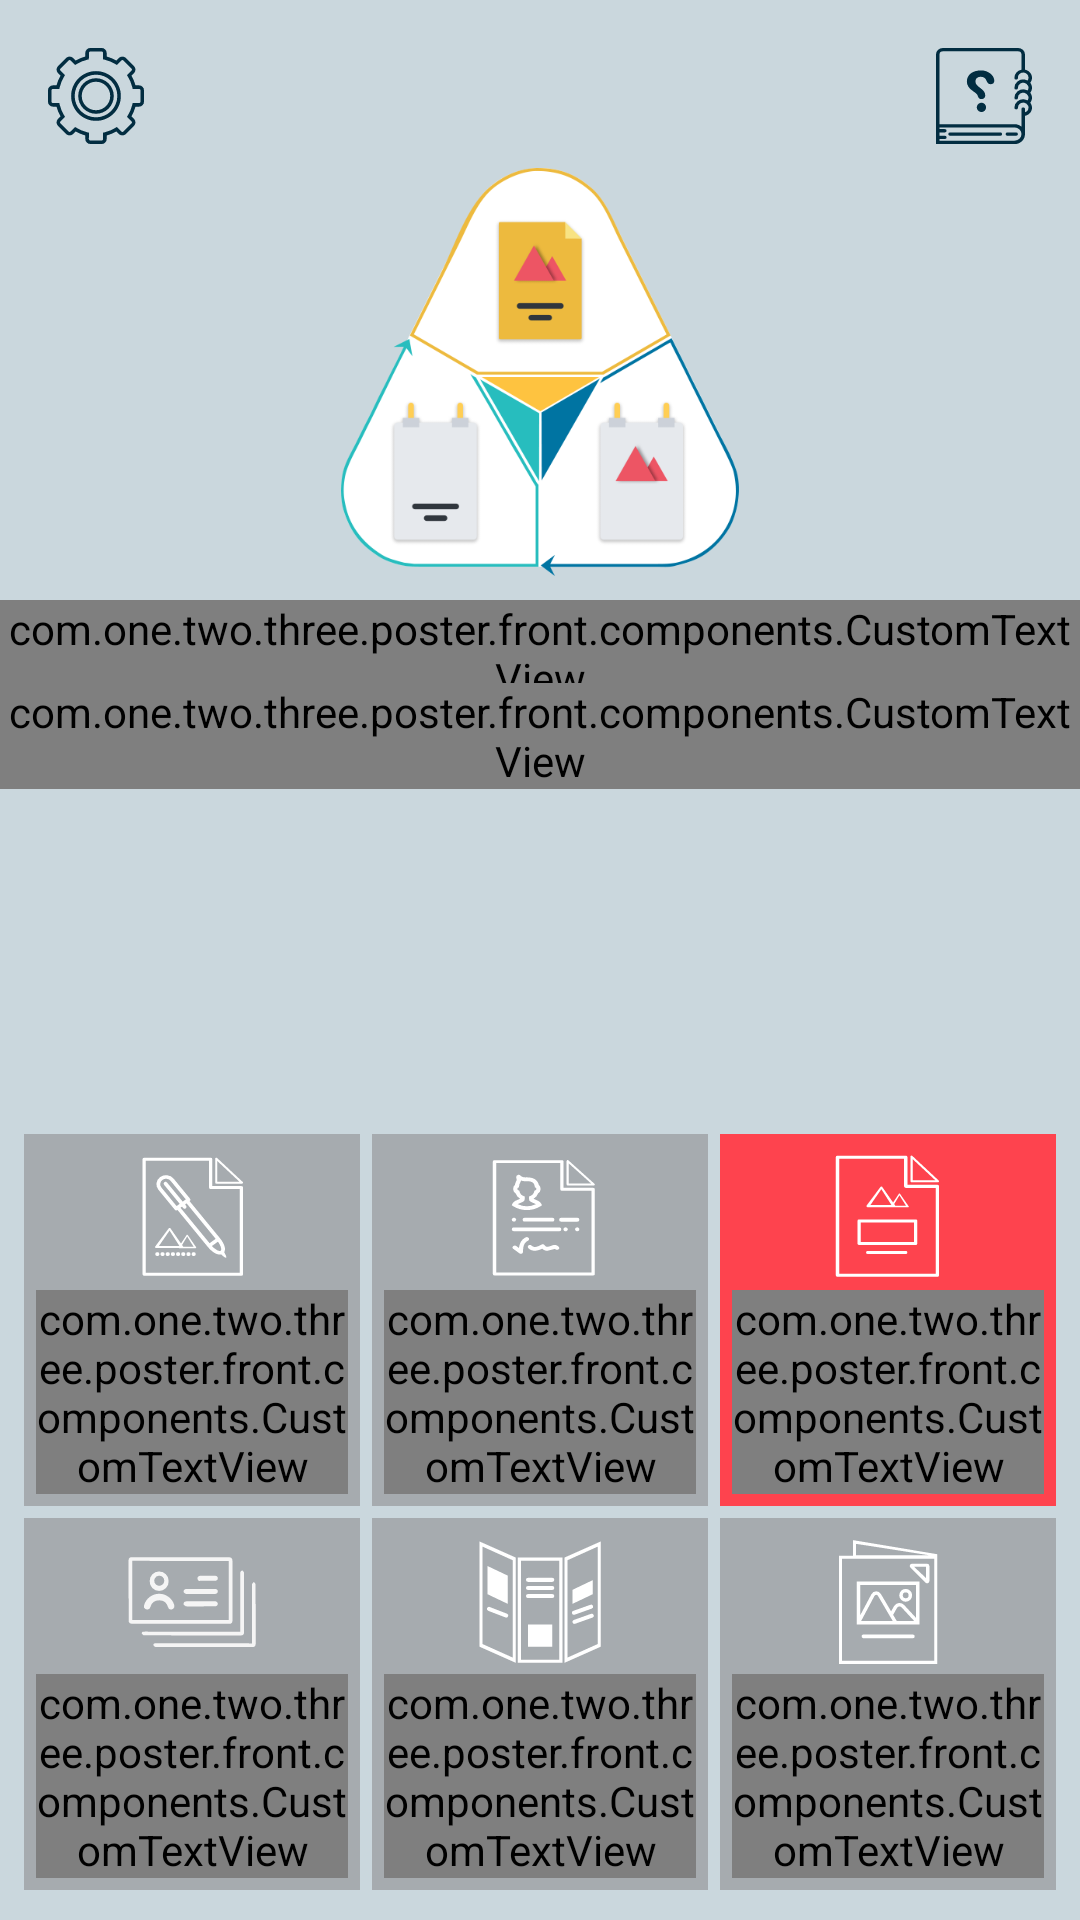

Screen size 1080w x 1920h. Icon name, then its center in pixels as (x,y):
borushur: (540,1602)
catalog: (888,1602)
help: (984,96)
resume: (544,1218)
setting: (96,96)
visitcard: (192,1602)
